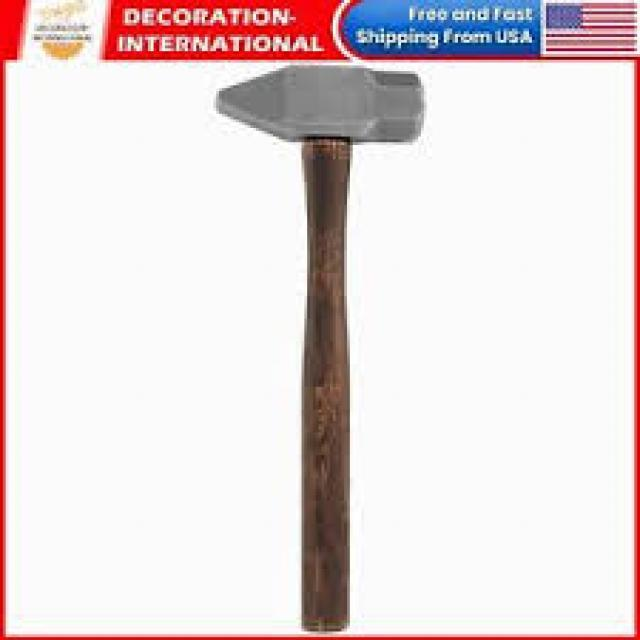hammer: (196, 63, 432, 632)
